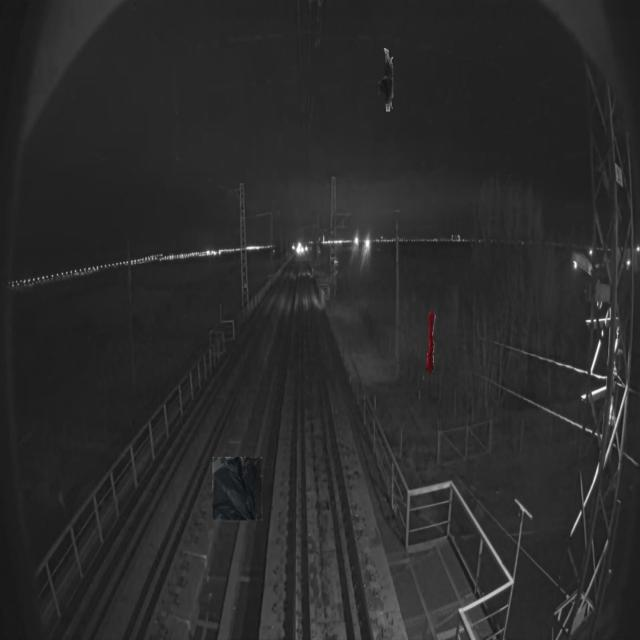floating object: (378, 48, 393, 112), (426, 312, 436, 376)
plastic bag: (212, 456, 263, 520)
